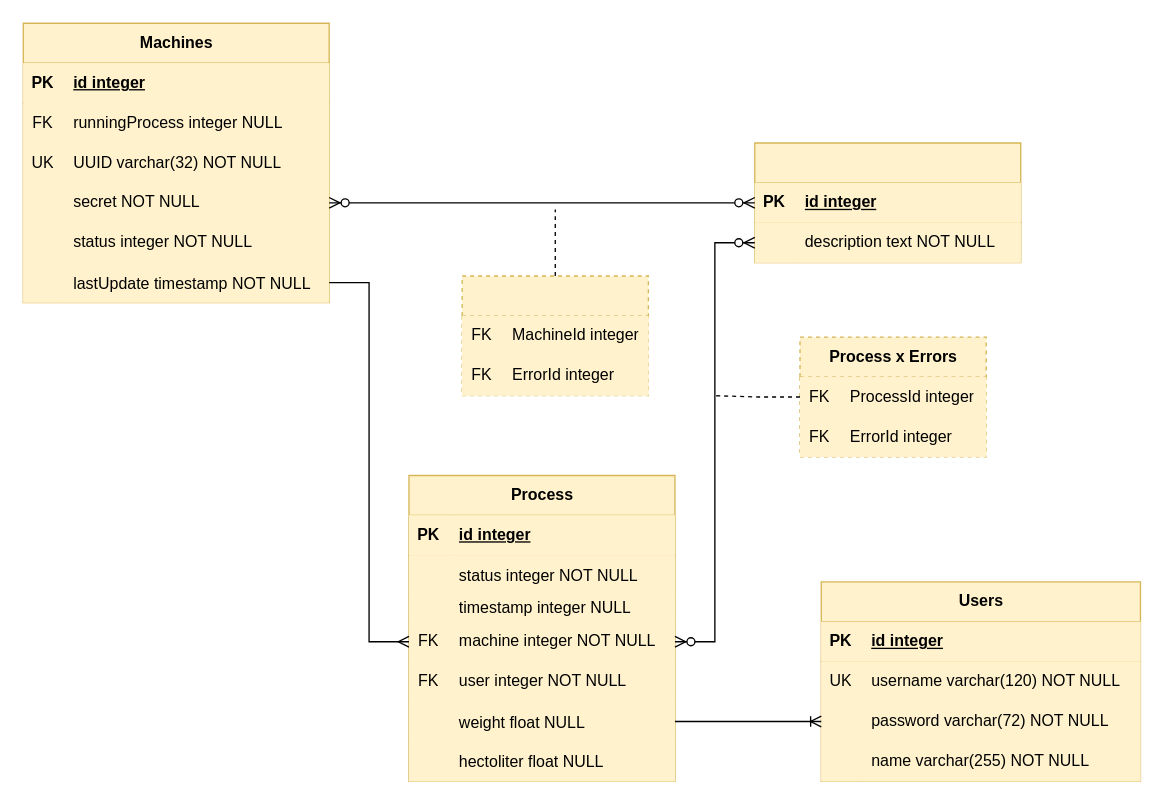
The diagram is 1164 pixels wide and 805 high, and some of its shapes have lost their labels. Here are the shapes that lost their labels. From the top down, the box of each, then its label:
(753, 142, 1021, 263): Errors
(461, 275, 648, 396): Machine x Errors
